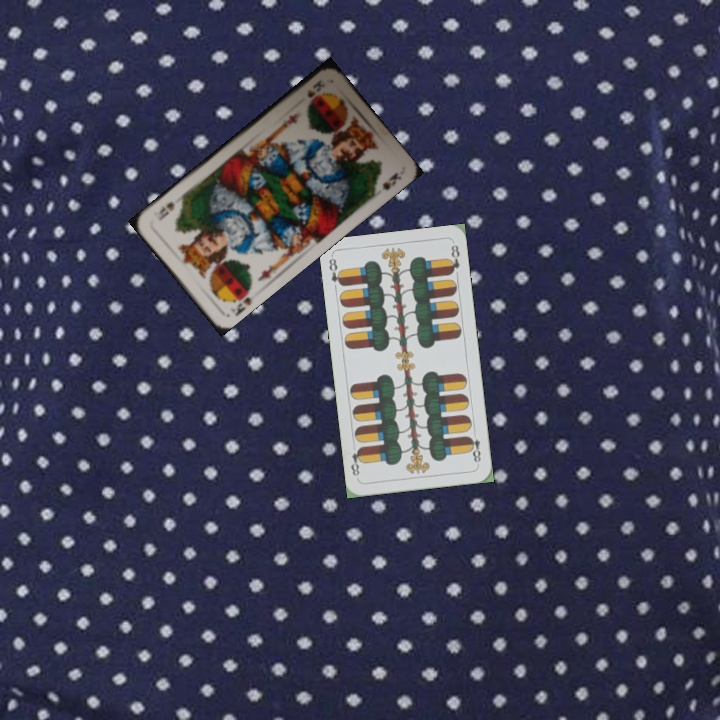E8: (325, 254, 346, 289), (465, 432, 483, 467)
SK: (231, 293, 254, 318), (303, 76, 325, 100)
